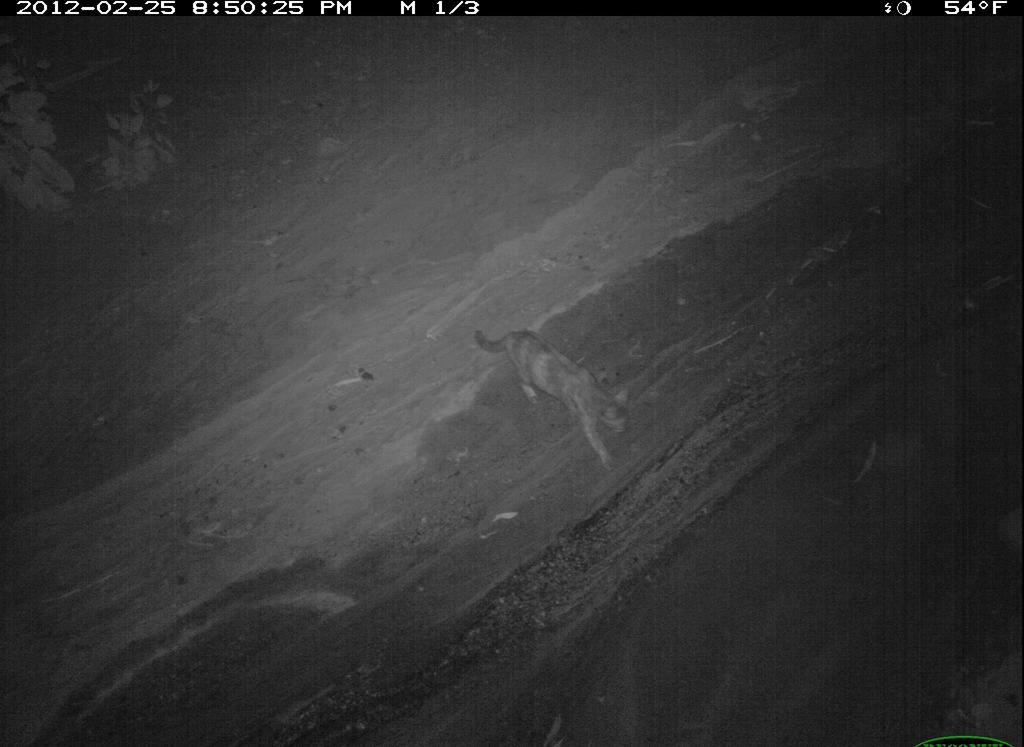cat: (943, 648, 1024, 747)
